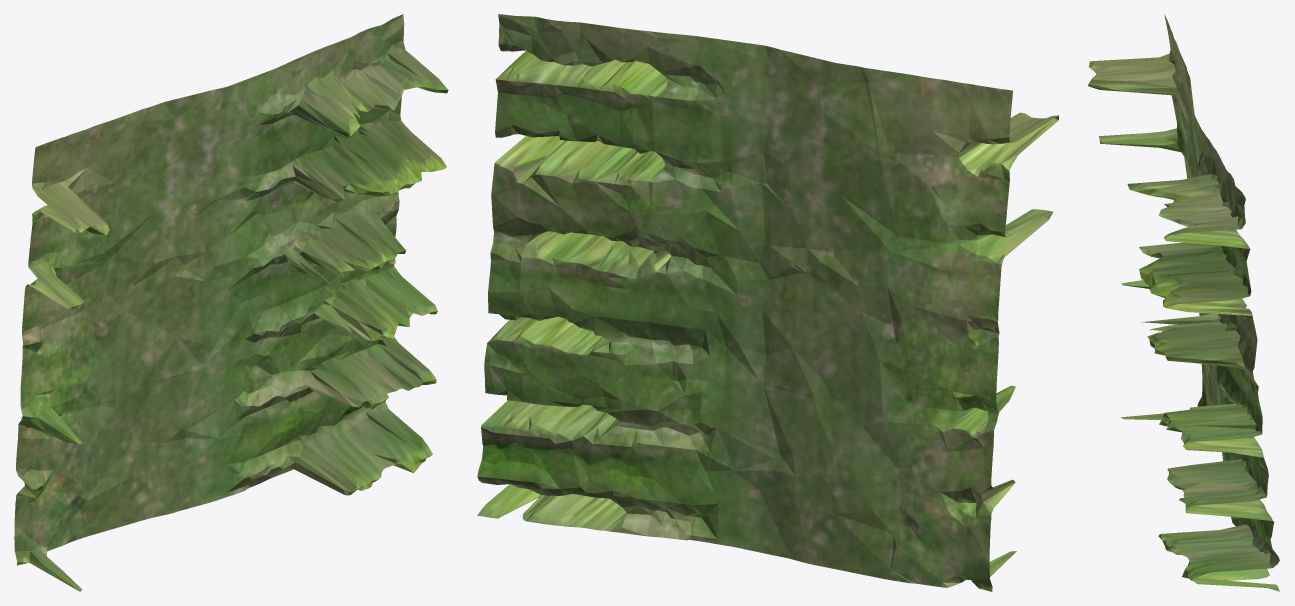
File: map_180_10.obj
3 views of the same model, side by side, from view 1: azimuth 30°, elevation 25°; view 2: azimuth 150°, elevation 25°; view 3: azimuth 270°, elevation 25° (orthographic). The views are drawn at different scales.
Parts seen in each view (by area): view 1: grp1; view 2: grp1; view 3: grp1.
Boxes of the visible parts, x1,y1,x2,y2 form: grp1: [14, 14, 448, 591]; grp1: [477, 14, 1058, 591]; grp1: [1087, 14, 1279, 591].
Bounding box in the file's own units: 10 × 10 × 4.44.
Materials: 1 (1 with a texture image).
